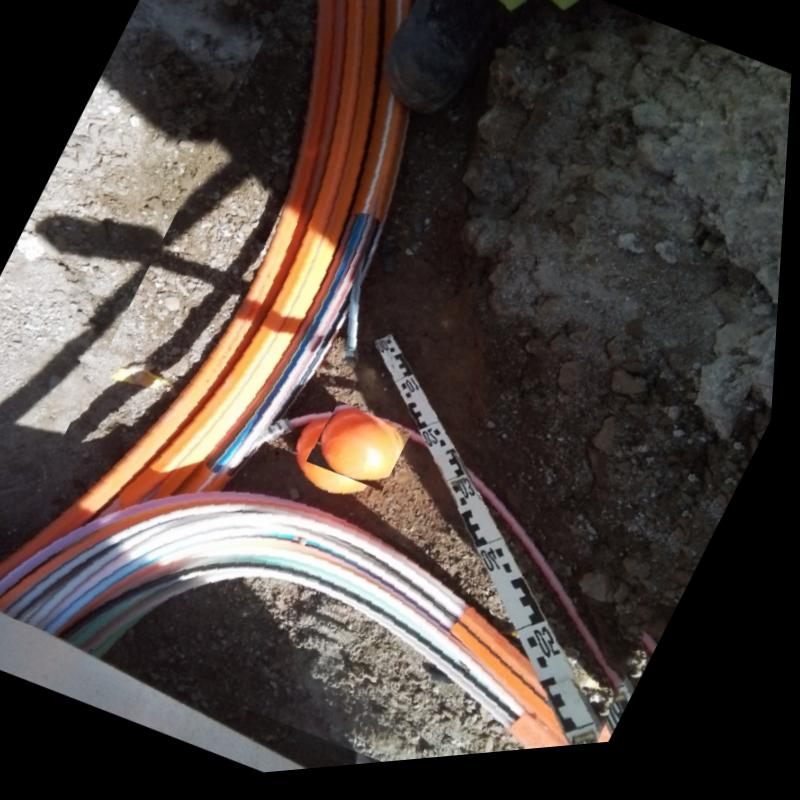Kugelmarker: (326, 416, 407, 488)
Orang-Speednetrohrchen: (0, 0, 589, 758)
